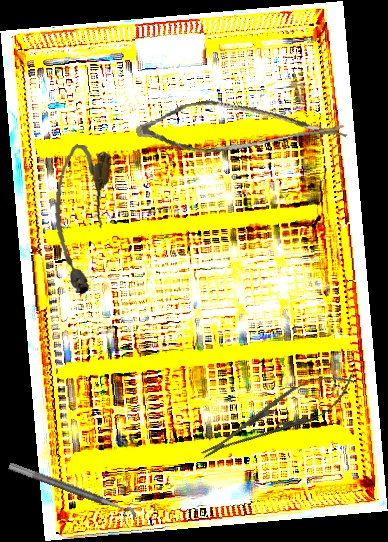Cannula: (45, 142, 113, 296)
Fixation Ring: (3, 461, 139, 529)
Micro Scissor: (133, 74, 352, 176)
Needle Holder: (191, 359, 364, 474)
